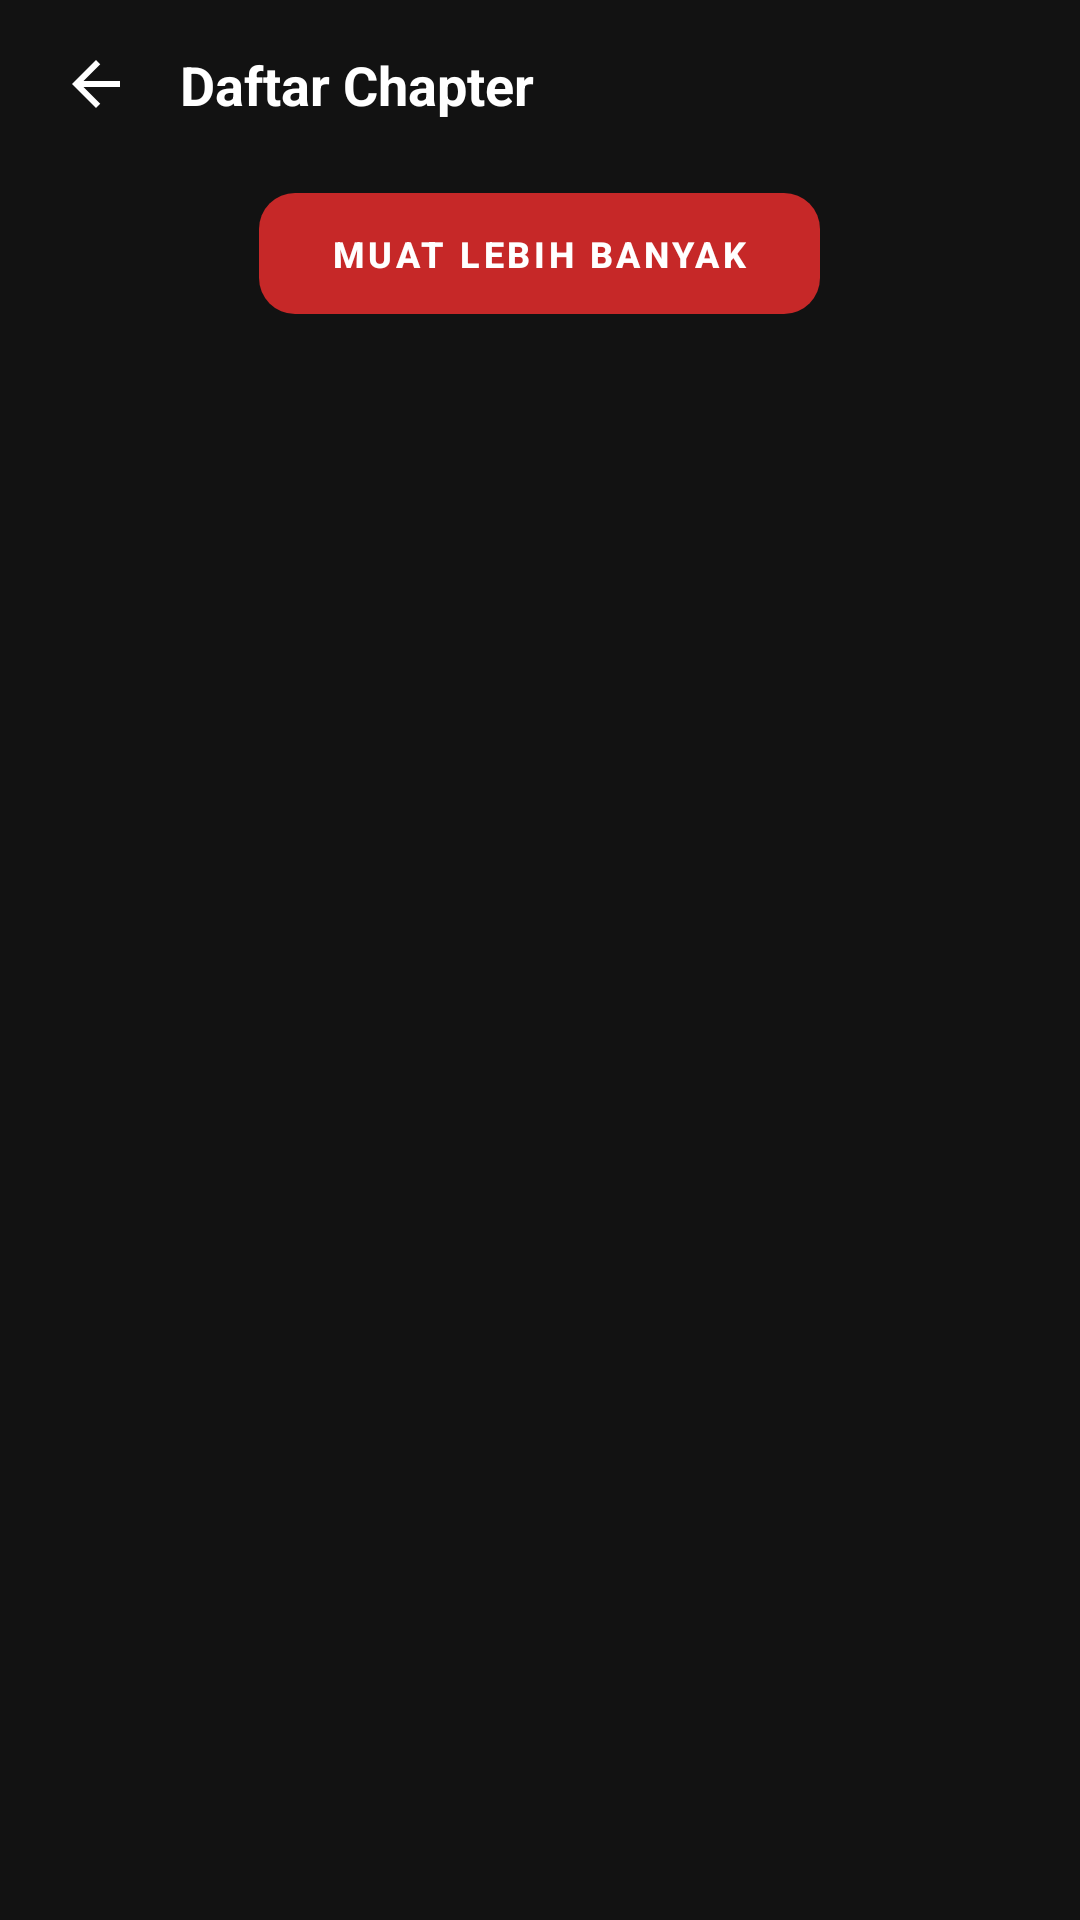

Screen size 1080*1920. Icon name, then its center in pixels as (x=x, y=y):
Kembali: (x=96, y=84)
